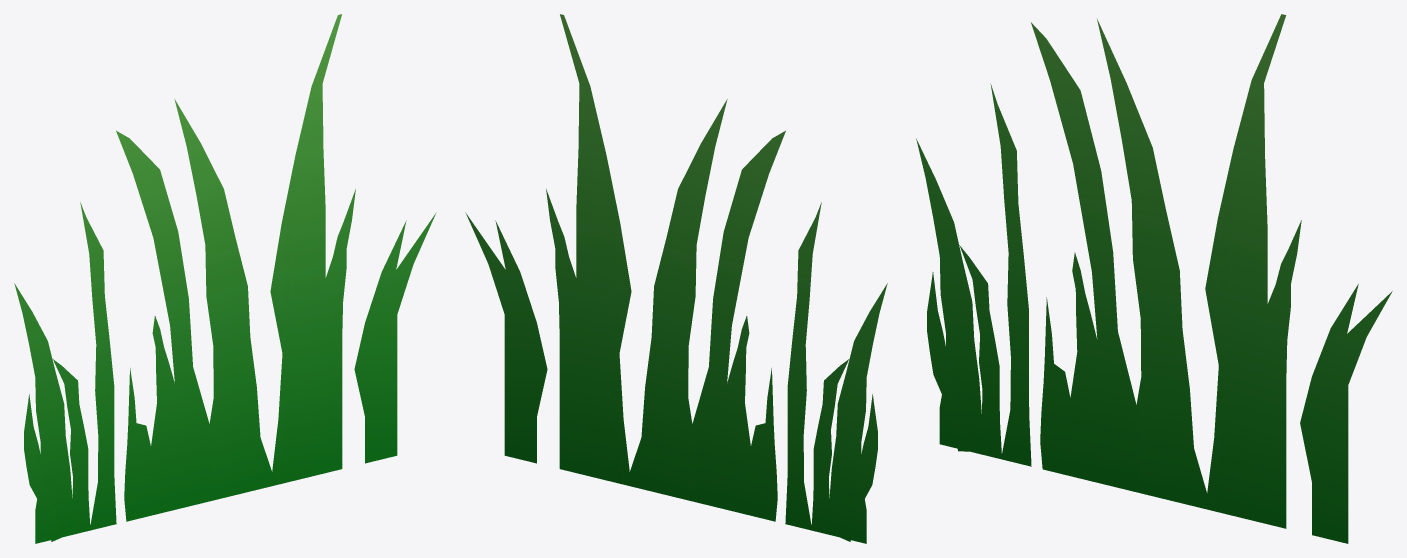
Rendered from alga1.fbx.
3 renders of one model, left to right at view 1: azimuth 30°, elevation 25°; view 2: azimuth 150°, elevation 25°; view 3: azimuth 330°, elevation 25°, orthographic. The views are drawn at different scales.
Parts seen in each view (by area): view 1: Alga; view 2: Alga; view 3: Alga.
Boxes of the visible parts, x1,y1,x2,y2 form: Alga: (14, 14, 436, 543); Alga: (465, 14, 887, 543); Alga: (916, 14, 1392, 543).
Bounding box in the file's own units: 77.1 × 79.71 × 1.57e-05.
Materials: 1 (1 with a texture image).
